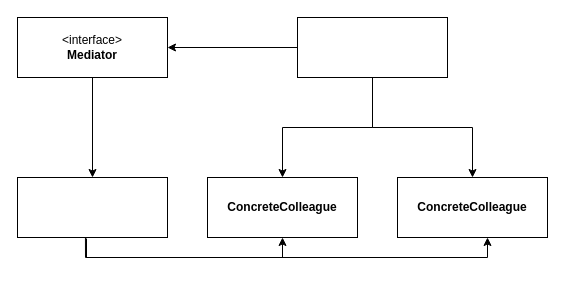
Image size: 565x283. Some labels were removed from this diagram. Here are the shapes that lost their labels. From the top down, the centre of each, then its label:
the point at 372,47: <interface> Colleague
the point at 92,207: ConcreteMediator
